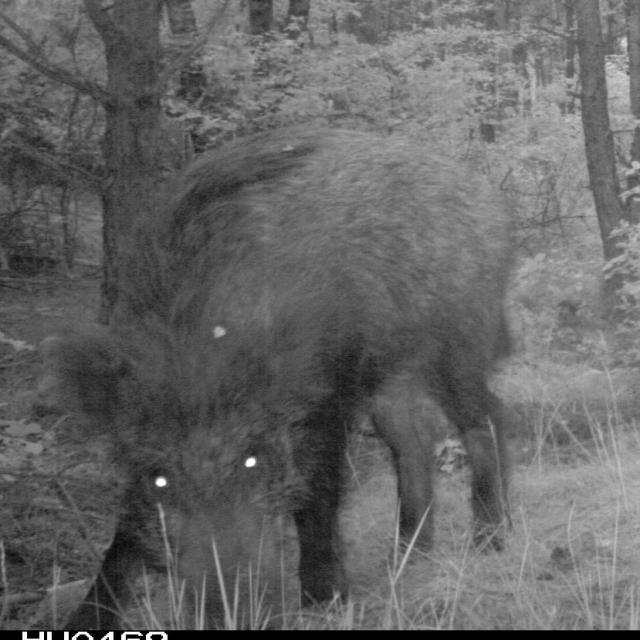pig: (60, 76, 484, 609)
